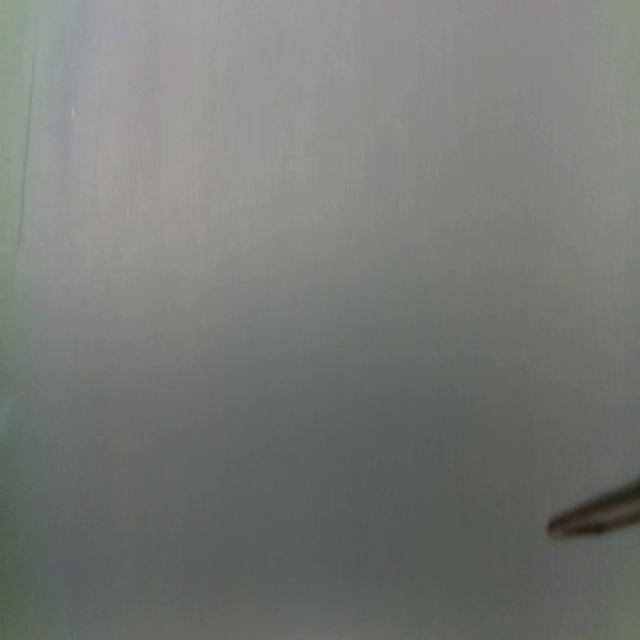crease: (17, 51, 40, 255)
